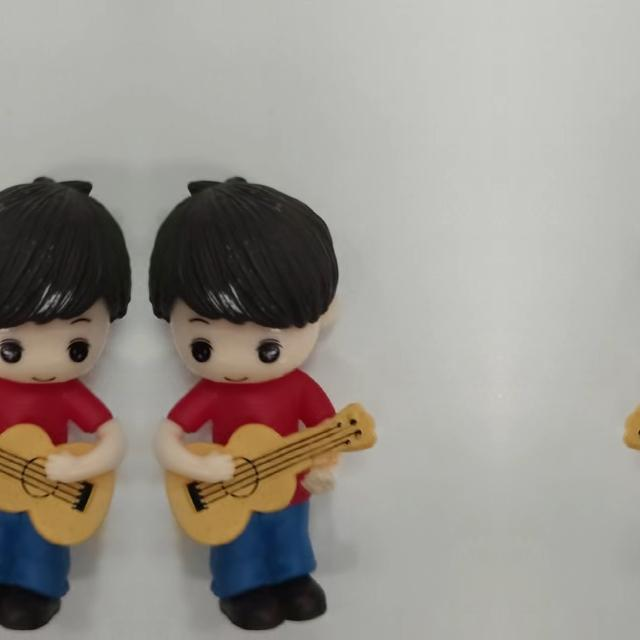man cloth: (154, 372, 350, 506), (0, 372, 125, 505)
man head: (147, 165, 345, 388), (0, 164, 133, 387)
trousers: (199, 494, 339, 630), (0, 493, 81, 630)
